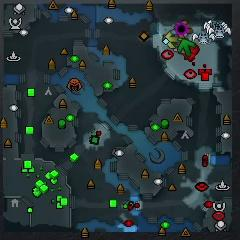p3Clone: (176, 23, 188, 35)
x2: (165, 31, 181, 48)
x4: (177, 39, 195, 56)
